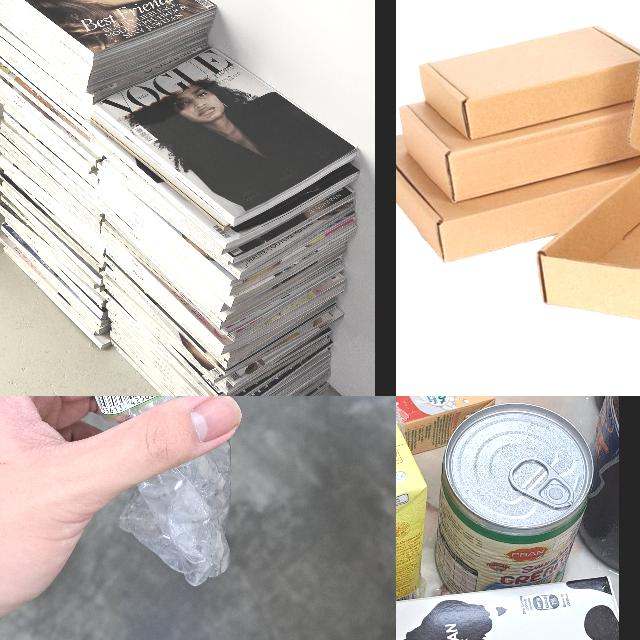aba de lata: (516, 462, 570, 516)
caixinha: (396, 582, 618, 640), (396, 396, 495, 486)
garrafa de vidro: (579, 396, 618, 573)
garrafa plástica: (396, 24, 640, 261), (77, 396, 291, 586), (536, 0, 640, 359)
lata: (438, 402, 590, 598)
papel: (0, 0, 359, 396)
